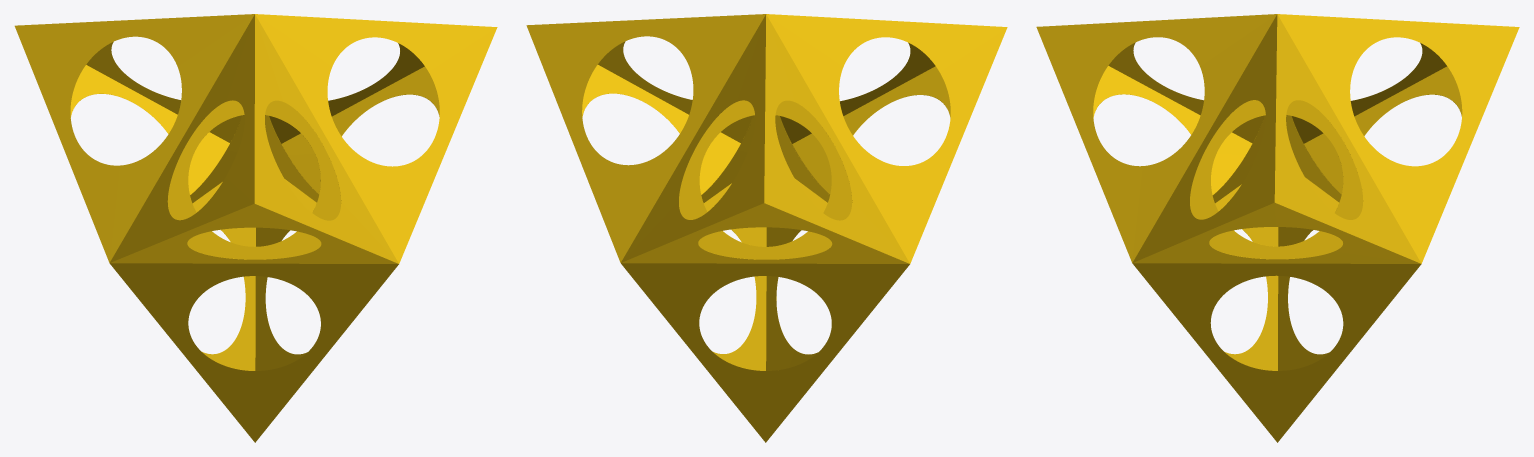
The model's file is banano_1.glb.
3 views of the same model, side by side, from view 1: azimuth 30°, elevation 25°; view 2: azimuth 150°, elevation 25°; view 3: azimuth 270°, elevation 25° (orthographic).
Visible parts, largest first — view 1: Cone.004; view 2: Cone.004; view 3: Cone.004.
Part boxes in pixels (left/top/right/bottom): Cone.004: left=14, top=14, right=497, bottom=442; Cone.004: left=526, top=14, right=1007, bottom=442; Cone.004: left=1036, top=14, right=1519, bottom=442.
Size of the model in its own units: 2.27 by 2.42 by 2.47.
